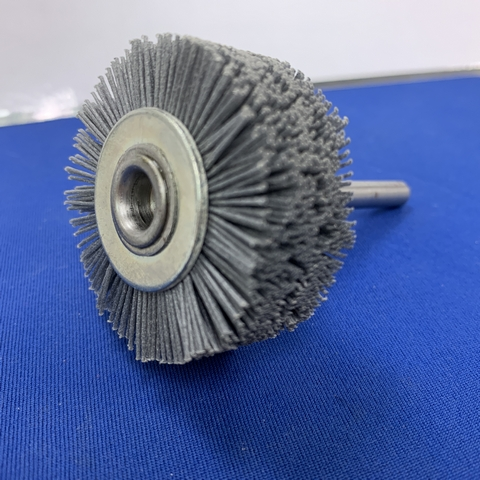Wheel Brush: (58, 28, 420, 365), (68, 25, 386, 404), (83, 54, 395, 346)
